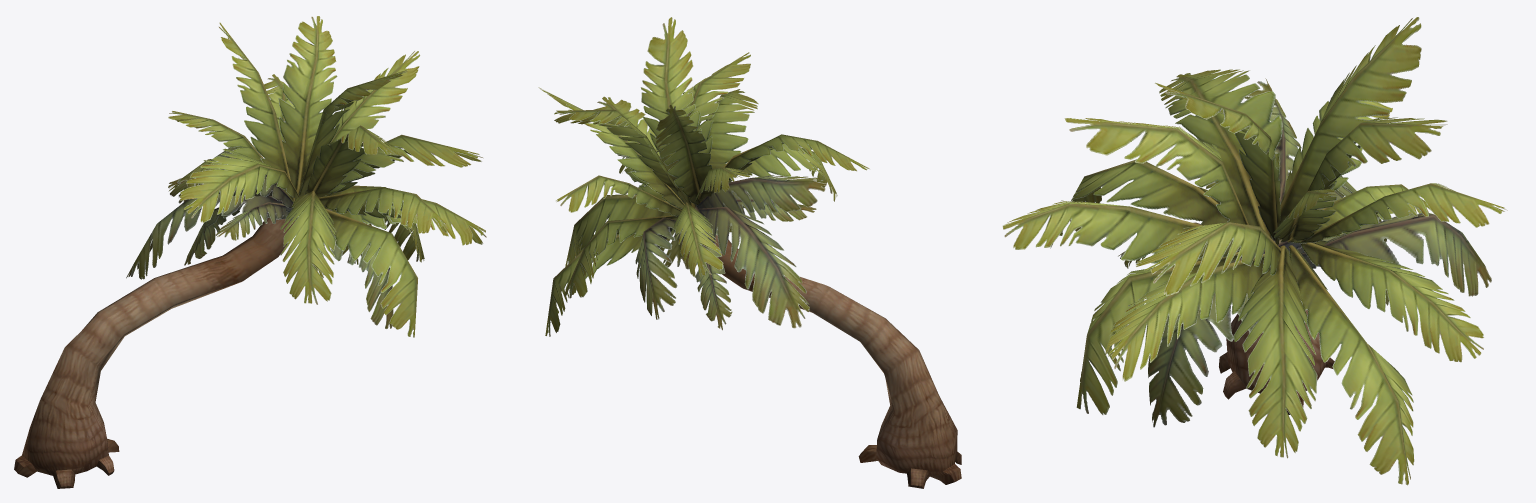
File: Map_11_tree02.FBX
3 renders of one model, left to right at view 1: azimuth 30°, elevation 25°; view 2: azimuth 150°, elevation 25°; view 3: azimuth 270°, elevation 25°, orthographic. The views are drawn at different scales.
Parts seen in each view (by area): view 1: Map_11_tree02b, Map_11_tree02a; view 2: Map_11_tree02b, Map_11_tree02a; view 3: Map_11_tree02b, Map_11_tree02a.
Part boxes in pixels (x1,y1,x2,y2): Map_11_tree02b: (126, 16, 486, 337); Map_11_tree02a: (14, 216, 294, 488); Map_11_tree02b: (538, 17, 869, 336); Map_11_tree02a: (686, 231, 961, 488); Map_11_tree02b: (1002, 17, 1507, 485); Map_11_tree02a: (1219, 310, 1334, 414).
Size of the model in its own units: 675 by 505 by 532.
